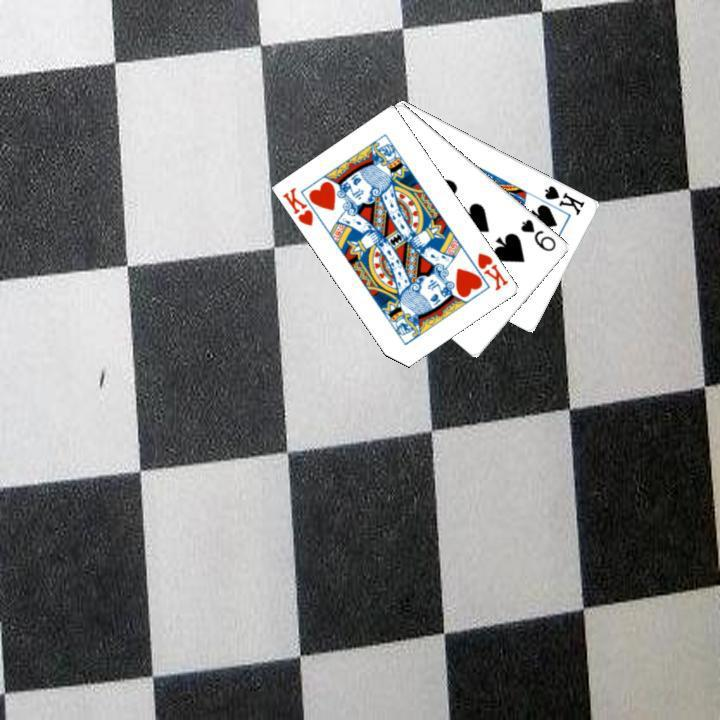9: (516, 214, 558, 253)
K: (473, 248, 511, 293), (540, 181, 587, 217), (279, 183, 316, 228)
